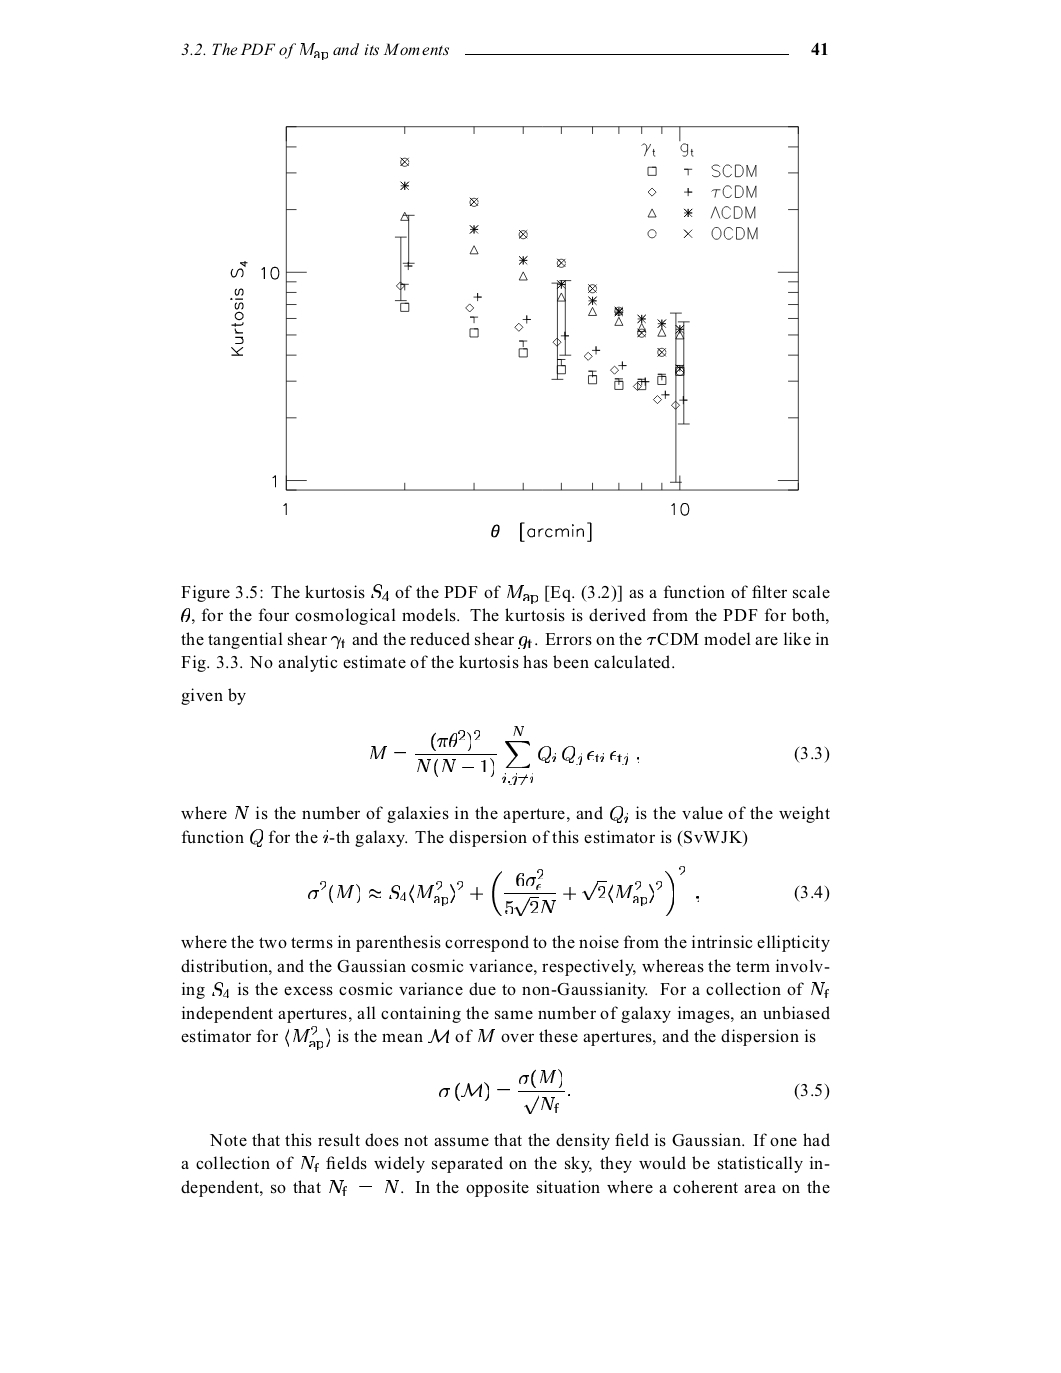figure: (230, 126, 798, 541)
formula: (370, 726, 829, 785), (308, 865, 829, 916), (439, 1068, 829, 1114)
